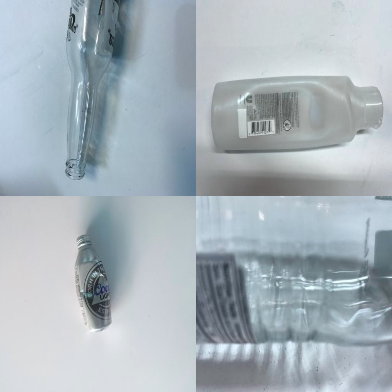glass: (64, 1, 121, 181)
metal: (73, 234, 113, 332)
plastic: (196, 195, 391, 346), (212, 76, 384, 152)
